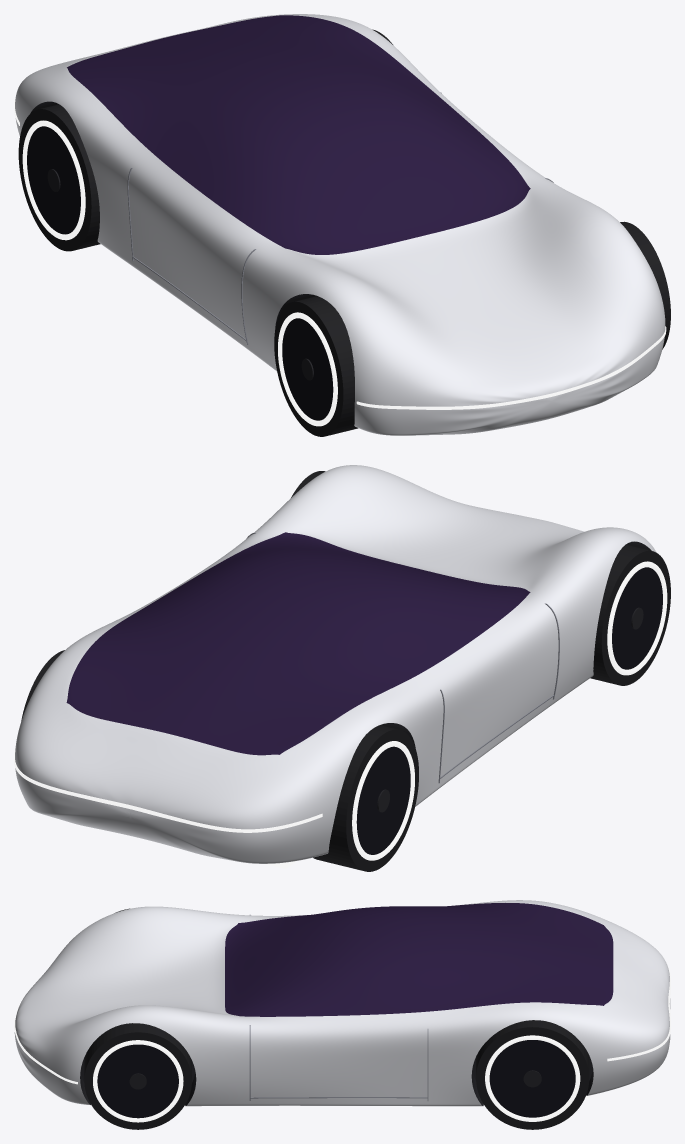
File: car.glb
The picture shows the model from 3 angles, top to bottom: view 1: azimuth 30°, elevation 25°; view 2: azimuth 150°, elevation 25°; view 3: azimuth 270°, elevation 25°; orthographic projection. The views are drawn at different scales.
Parts seen in each view (by area): view 1: Body, Tyre0-1, Disc1-1, Disc0-1, Tyre1-1, Ring1-1, Ring0-1, BladeFront, Tyre01; view 2: Body, Tyre1-1, Disc1-1, Disc0-1, Tyre0-1, Ring1-1, Ring0-1, BladeRear; view 3: Body, Disc11, Disc01, Tyre11, Tyre01, Ring11, Ring01.
Boxes of the visible parts, left/top/right/bottom form: Body: left=15, top=14, right=665, bottom=435; Tyre0-1: left=274, top=296, right=358, bottom=436; Disc1-1: left=27, top=126, right=80, bottom=234; Disc0-1: left=282, top=318, right=333, bottom=420; Tyre1-1: left=18, top=104, right=100, bottom=251; Ring1-1: left=22, top=120, right=85, bottom=240; Ring0-1: left=278, top=312, right=337, bottom=426; BladeFront: left=356, top=326, right=666, bottom=409; Tyre01: left=620, top=221, right=670, bottom=349; Body: left=15, top=465, right=656, bottom=863; Tyre1-1: left=313, top=725, right=418, bottom=871; Disc1-1: left=356, top=746, right=410, bottom=854; Disc0-1: left=612, top=567, right=662, bottom=669; Tyre0-1: left=590, top=544, right=670, bottom=685; Ring1-1: left=352, top=741, right=414, bottom=860; Ring0-1: left=607, top=561, right=667, bottom=675; BladeRear: left=14, top=749, right=322, bottom=832; Body: left=14, top=900, right=670, bottom=1106; Disc11: left=489, top=1040, right=575, bottom=1117; Disc01: left=97, top=1044, right=178, bottom=1118; Tyre11: left=476, top=1020, right=589, bottom=1129; Tyre01: left=84, top=1023, right=191, bottom=1129; Ring11: left=485, top=1035, right=580, bottom=1121; Ring01: left=93, top=1040, right=183, bottom=1122.
Bounding box in the file's own units: 2.09 × 1.07 × 4.58.
